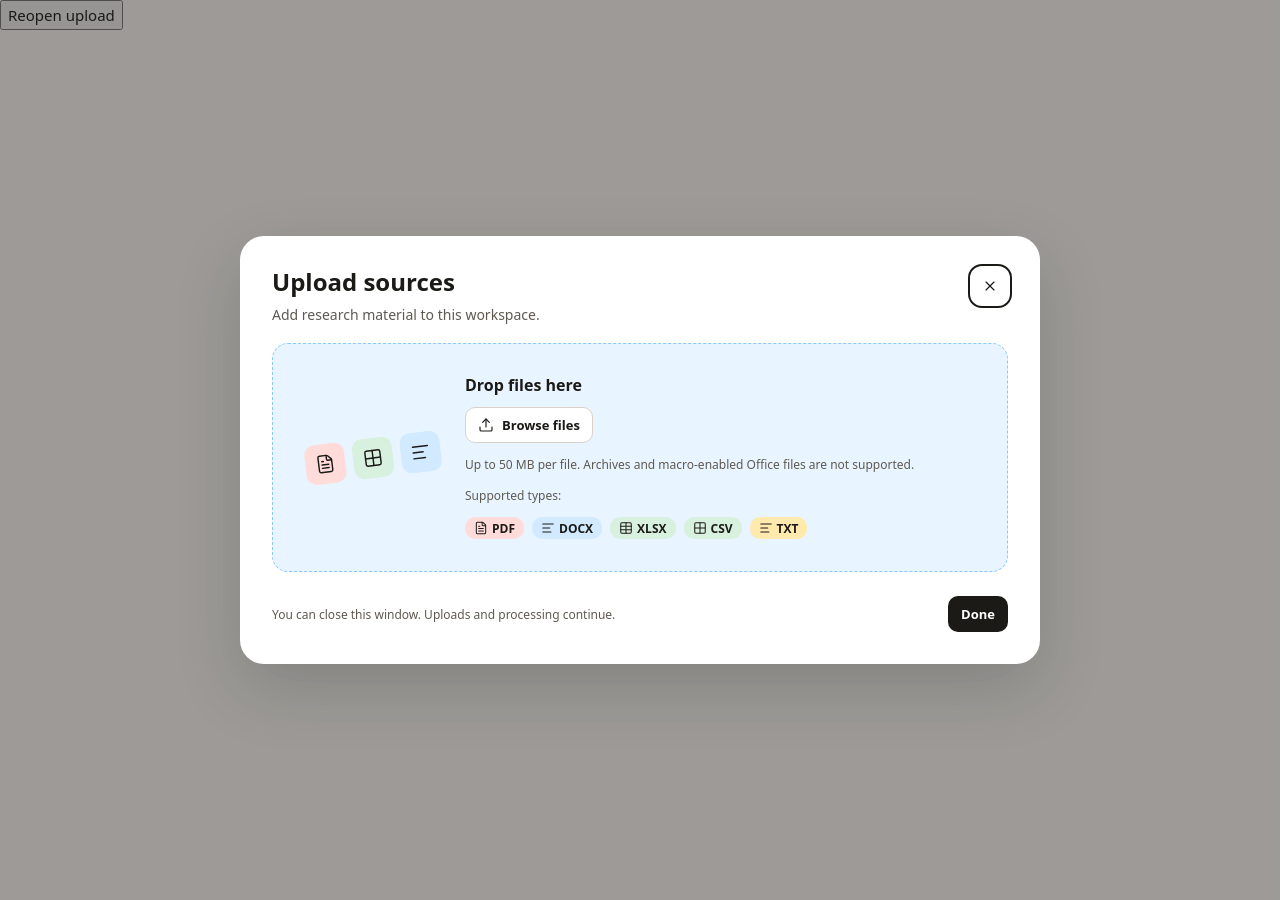
Test: opens the shell fragment and allows dismissal
Expected: the dialog is shown, [240,236,1040,664]
What coordinates should you click on to do the following:
click the button named "Close"
I would click on:
 (990, 286)
Its box is [972,268,1008,304].
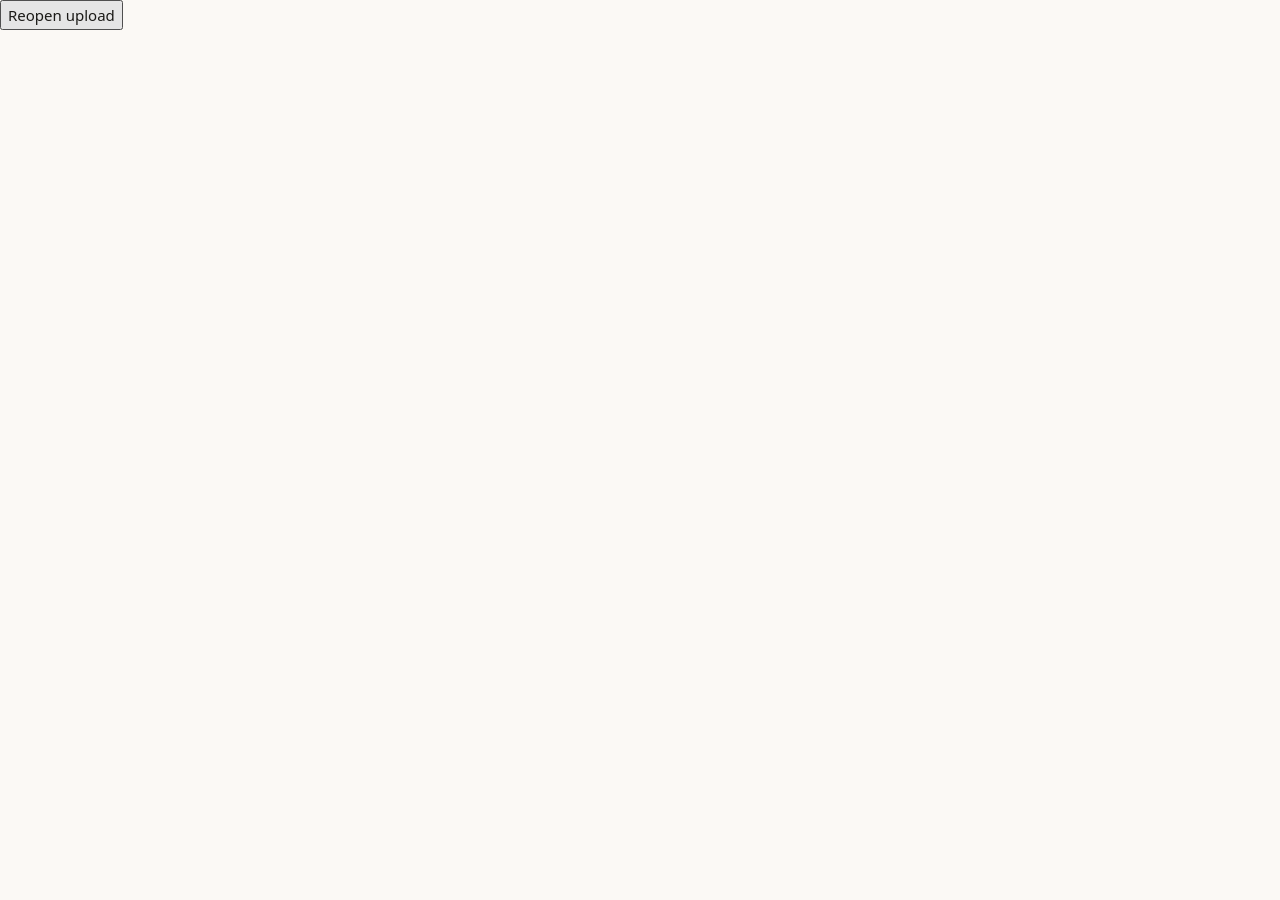
Expected: the dialog is gone
